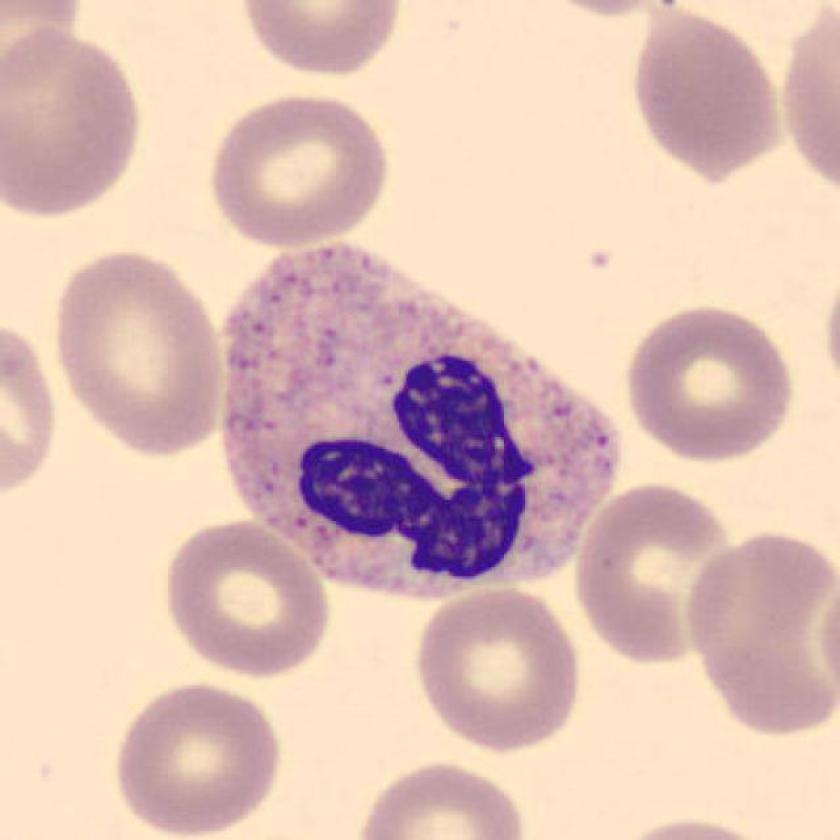neutrophil: (224, 247, 618, 600)
